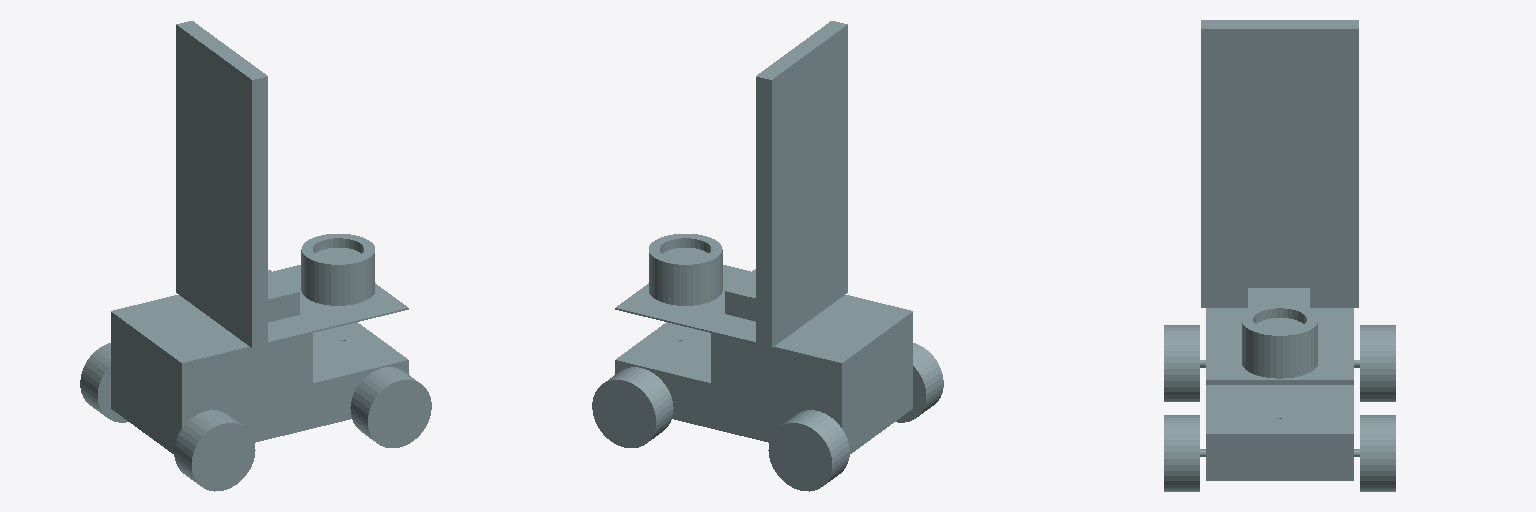
URDF robot description (dofbot):
<?xml version="1.0" encoding="UTF-8" ?>
<robot name="dofbot">
    <link name="base_link">
        <visual>
            <origin xyz="0 0 0" rpy="0 0 0" />
            <geometry>
                <mesh filename="package://dofbot_moveit/meshes/base_link.STL" />
            </geometry>
            <material name="">
                <color rgba="0.592156862745098 0.666666666666667 0.682352941176471 1" />
            </material>
        </visual>
        <collision>
            <origin xyz="0 0 0" rpy="0 0 0" />
            <geometry>
                <mesh filename="package://dofbot_moveit/meshes/base_link.STL" />
            </geometry>
        </collision>
    </link>
    <link name="link1">
        <visual>
            <origin xyz="0 0 0" rpy="0 0 0" />
            <geometry>
                <mesh filename="package://dofbot_moveit/meshes/link1.STL" />
            </geometry>
            <material name="">
                <color rgba="0 0.627450980392157 0.235294117647059 1" />
            </material>
        </visual>
        <collision>
            <origin xyz="0 0 0" rpy="0 0 0" />
            <geometry>
                <mesh filename="package://dofbot_moveit/meshes/link1.STL" />
            </geometry>
        </collision>
    </link>
    <joint name="joint1" type="revolute">
        <origin xyz="0 0 0.06605" rpy="-0.010805 0 0" />
        <parent link="base_link" />
        <child link="link1" />
        <axis xyz="0 0 1" />
        <limit effort="30" velocity="1.0" lower="-1.5708" upper="1.5708"/>
    </joint>
    <link name="link2">
        <visual>
            <origin xyz="0 0 0" rpy="0 0 0" />
            <geometry>
                <mesh filename="package://dofbot_moveit/meshes/link2.STL" />
            </geometry>
            <material name="">
                <color rgba="0.592156862745098 0.666666666666667 0.682352941176471 1" />
            </material>
        </visual>
        <collision>
            <origin xyz="0 0 0" rpy="0 0 0" />
            <geometry>
                <mesh filename="package://dofbot_moveit/meshes/link2.STL" />
            </geometry>
        </collision>
    </link>
    <joint name="joint2" type="revolute">
        <origin xyz="0 -0.00031873 0.04145" rpy="0 1.5708 0" />
        <parent link="link1" />
        <child link="link2" />
        <axis xyz="0 0 1" />
        <limit effort="30" velocity="1.0" lower="-1.5708" upper="1.5708"/>
    </joint>
    <link name="link3">
        <visual>
            <origin xyz="0 0 0" rpy="0 0 0" />
            <geometry>
                <mesh filename="package://dofbot_moveit/meshes/link3.STL" />
            </geometry>
            <material name="">
                <color rgba="0 0.627450980392157 0.235294117647059 1" />
            </material>
        </visual>
        <collision>
            <origin xyz="0 0 0" rpy="0 0 0" />
            <geometry>
                <mesh filename="package://dofbot_moveit/meshes/link3.STL" />
            </geometry>
        </collision>
    </link>
    <joint name="joint3" type="revolute">
        <origin xyz="-0.08285 0 0" rpy="0 0 0" />
        <parent link="link2" />
        <child link="link3" />
        <axis xyz="0 0 1" />
        <limit effort="30" velocity="1.0" lower="-1.5708" upper="1.5708"/>
    </joint>
    <link name="link4">
        <visual>
            <origin xyz="0 0 0" rpy="0 0 0" />
            <geometry>
                <mesh filename="package://dofbot_moveit/meshes/link4.STL" />
            </geometry>
            <material name="">
                <color rgba="0.592156862745098 0.666666666666667 0.682352941176471 1" />
            </material>
        </visual>
        <collision>
            <origin xyz="0 0 0" rpy="0 0 0" />
            <geometry>
                <mesh filename="package://dofbot_moveit/meshes/link4.STL" />
            </geometry>
        </collision>
    </link>
    <joint name="joint4" type="revolute">
        <origin xyz="-0.08285 0 0" rpy="0 0 0.0083081" />
        <parent link="link3" />
        <child link="link4" />
        <axis xyz="0 0 1" />
        <limit effort="30" velocity="1.0" lower="-1.5708" upper="1.5708"/>
    </joint>
    <!-- link5 -->
    <link name="link5">
        <visual>
            <origin xyz="0 0 0" rpy="0 0 0"/>
            <geometry>
                <mesh filename="package://dofbot_moveit/meshes/link5.STL"/>
            </geometry>
            <material name="">
                <color rgba="1 1 1 1" />
            </material>
        </visual>
        <collision>
            <origin xyz="0 0 0" rpy="0 0 0" />
            <geometry>
                <mesh filename="package://dofbot_moveit/meshes/link5.STL" />
            </geometry>
        </collision>
    </link>
    <!-- joint5 -->
    <joint name="joint5" type="revolute">
        <origin xyz="-0.07385 -0.001 0" rpy="0 -1.57 0"/>
        <axis xyz="0 0 1"/>
        <parent link="link4"/>
        <child link="link5"/>
        <limit effort="30" velocity="1.0" lower="-1.5708" upper="3.1416"/>
    </joint>
</robot>

--- Facts derived from the render (not from the file) ---
Views: 3 orthographic renders of the robot side by side, from view 1: azimuth 30°, elevation 25°; view 2: azimuth 150°, elevation 25°; view 3: azimuth 270°, elevation 25°.
Robot: dofbot — 6 links, 5 joints (5 revolute); root link base_link; default pose: all joints at 0.
Links seen in each view (by area): view 1: base_link; view 2: base_link; view 3: base_link.
Boxes of the visible links, box(x1,y1,x2,y2) form: base_link: box(80, 21, 431, 491); base_link: box(592, 21, 943, 491); base_link: box(1164, 20, 1395, 491).
Size in the robot's own frame: 0.2999 by 0.2406 by 0.4608 metres.
Meshes: 6 distinct files referenced, 1 mesh visuals loaded (1 binary STL); not drawn: 5 (reference not matched to a file when rendering).